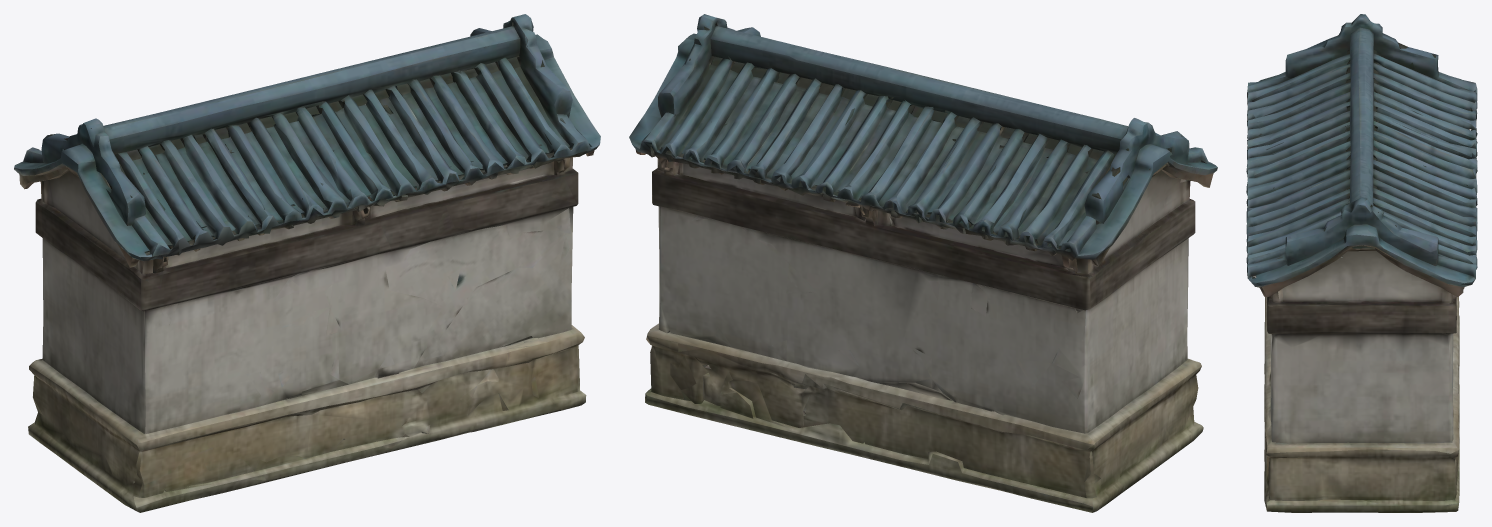
Rendered from ARCH-006.glb.
3 views of the same model, side by side, from view 1: azimuth 30°, elevation 25°; view 2: azimuth 150°, elevation 25°; view 3: azimuth 270°, elevation 25° (orthographic). The views are drawn at different scales.
Visible parts, largest first — view 1: world; view 2: world; view 3: world.
Boxes of the visible parts, x1,y1,x2,y2 form: world: (14, 14, 600, 512); world: (629, 14, 1217, 512); world: (1246, 14, 1477, 512).
Bounding box in the file's own units: 3 × 2.12 × 1.44.
Materials: 1 (1 with a texture image).
